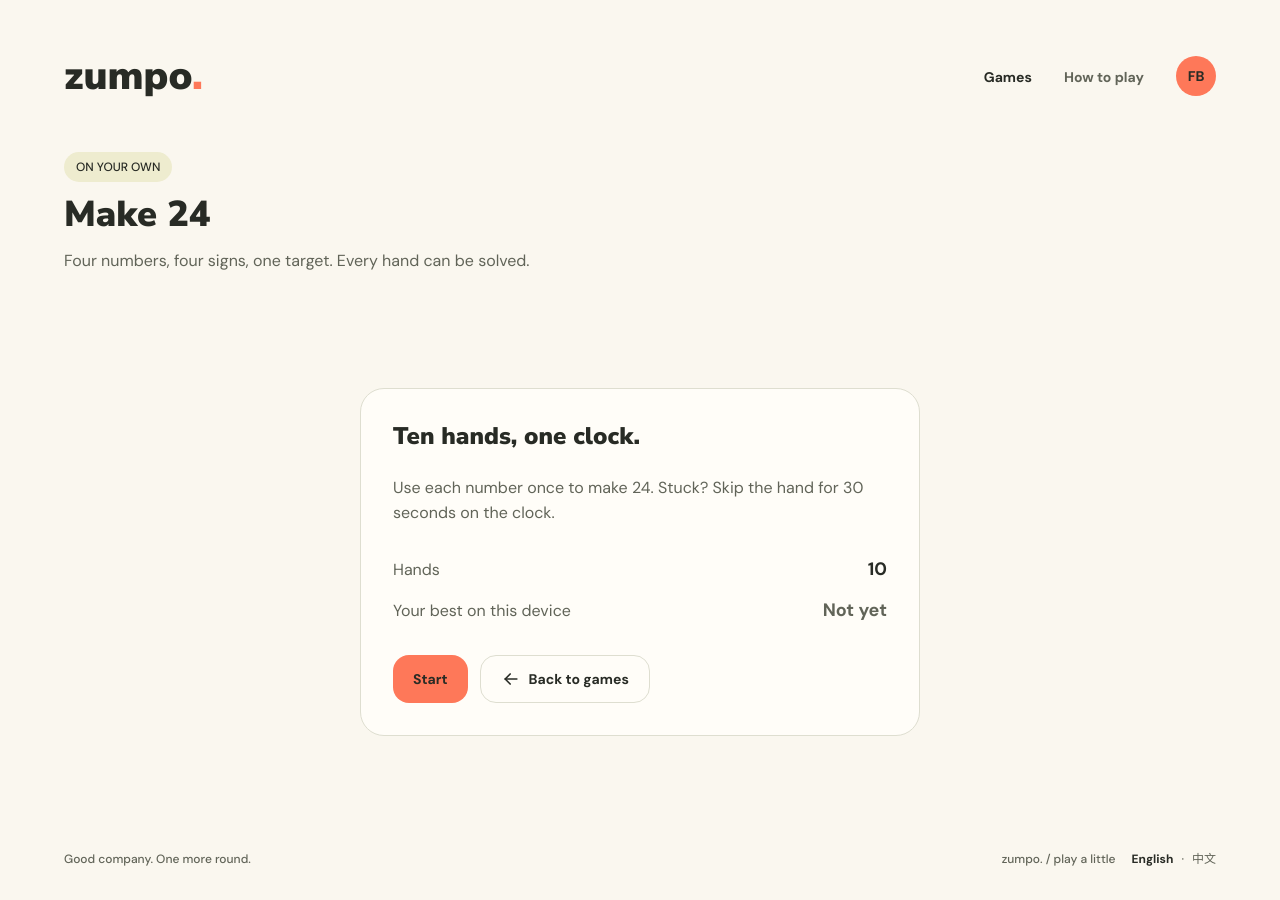
Test case: Make 24 on your own › starts on a first visit when asked
Expected: the heading "Ten hands, one clock." is shown, x1=393 y1=420 x2=640 y2=452
Expected: the text "Not yet" is shown, x1=823 y1=598 x2=887 y2=622
Click the button "Start".
click(430, 678)  # box x1=393 y1=654 x2=468 y2=702
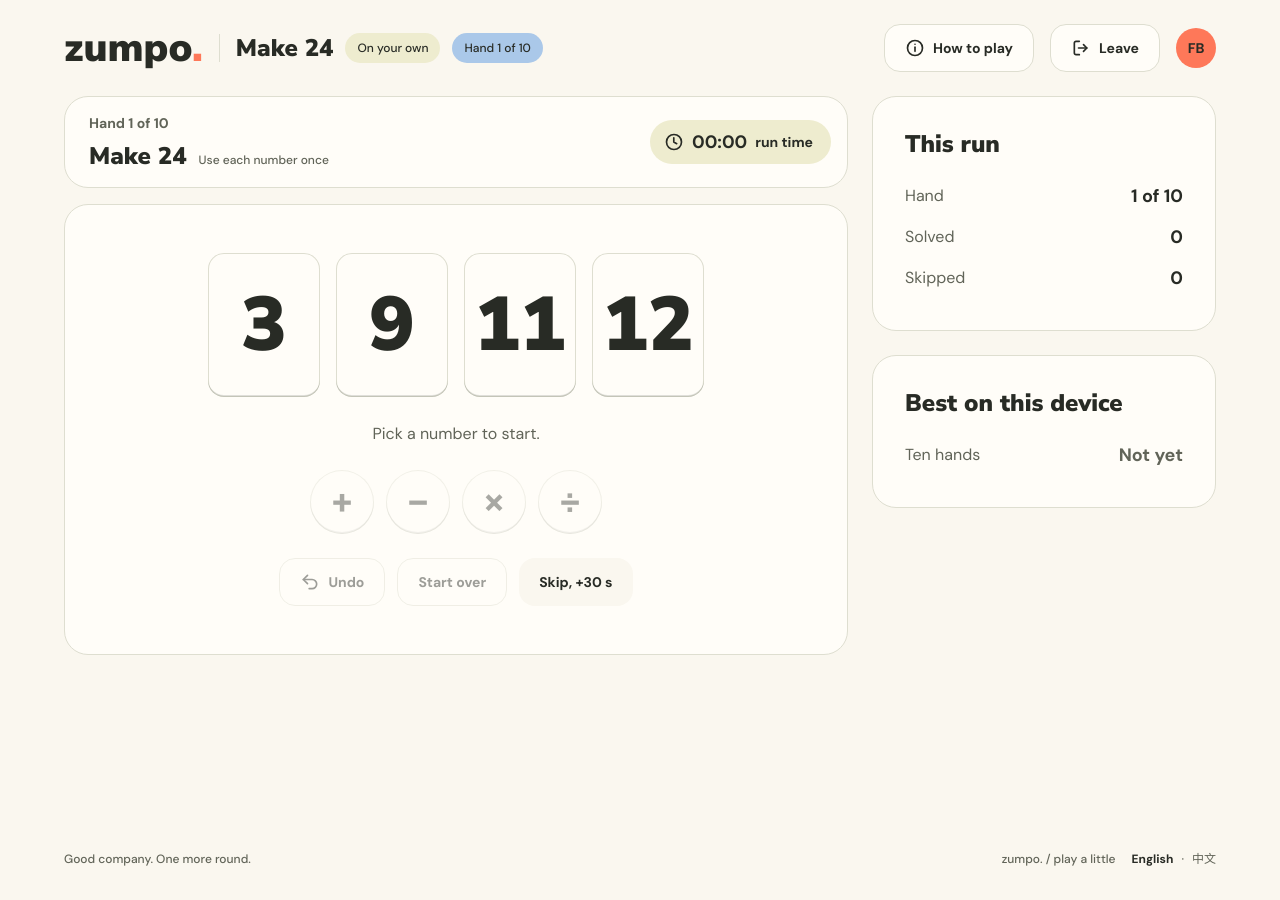
Expected: the text "Make 24" is shown, x1=89 y1=141 x2=187 y2=171
Now the text "Hand 1 of 10" in the row of "This run" is shown, box x1=89 y1=114 x2=169 y2=132
Now the number of buttons "3" is 4, box x1=208 y1=253 x2=320 y2=397; x1=336 y1=253 x2=448 y2=397; x1=464 y1=253 x2=576 y2=397; x1=592 y1=253 x2=704 y2=397
